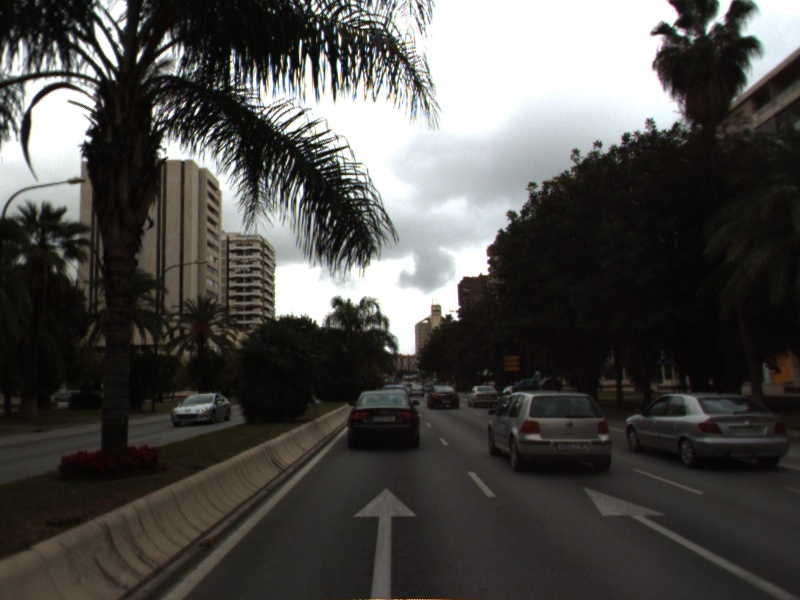STRAIGHT: (578, 482, 800, 600), (348, 484, 422, 600)
